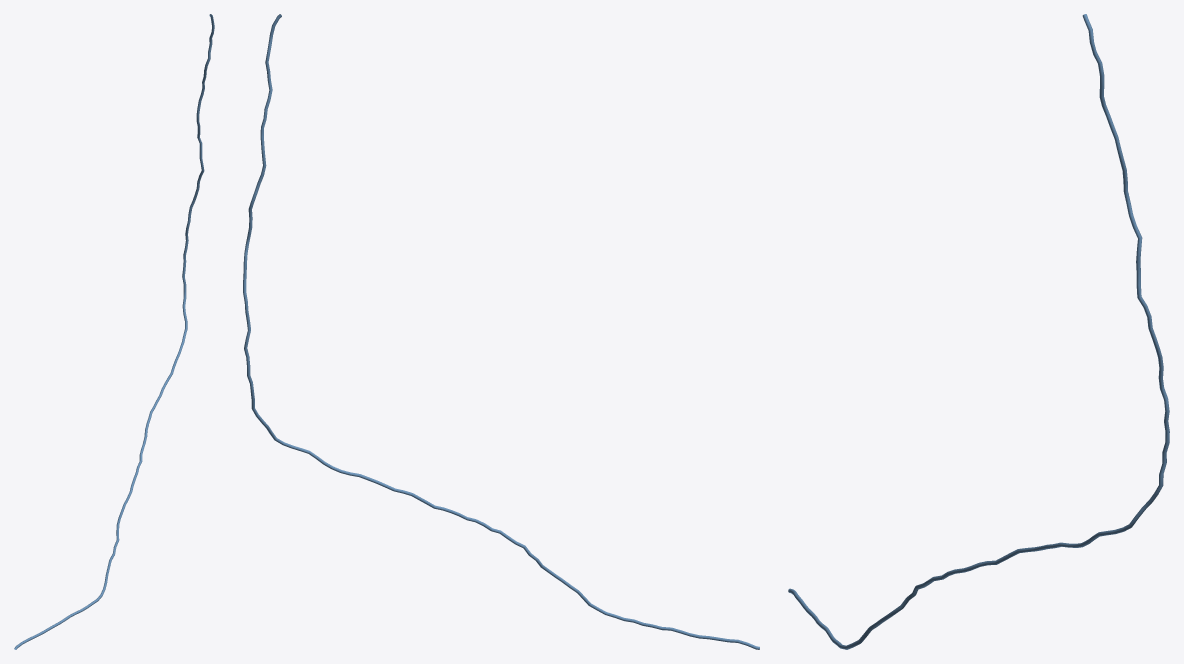
Rendered from sweep144.fbx.
3 views of the same model, side by side, from view 1: azimuth 30°, elevation 25°; view 2: azimuth 150°, elevation 25°; view 3: azimuth 270°, elevation 25° (orthographic). The views are drawn at different scales.
Parts seen in each view (by area): view 1: sweep144; view 2: sweep144; view 3: sweep144.
Boxes of the visible parts, x1,y1,x2,y2 form: sweep144: (14, 14, 214, 649); sweep144: (243, 14, 759, 649); sweep144: (788, 14, 1169, 649).
Bounding box in the file's own units: 2.49 × 3.99 × 1.71.
